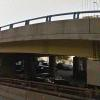Bridge: (3, 10, 94, 64)
